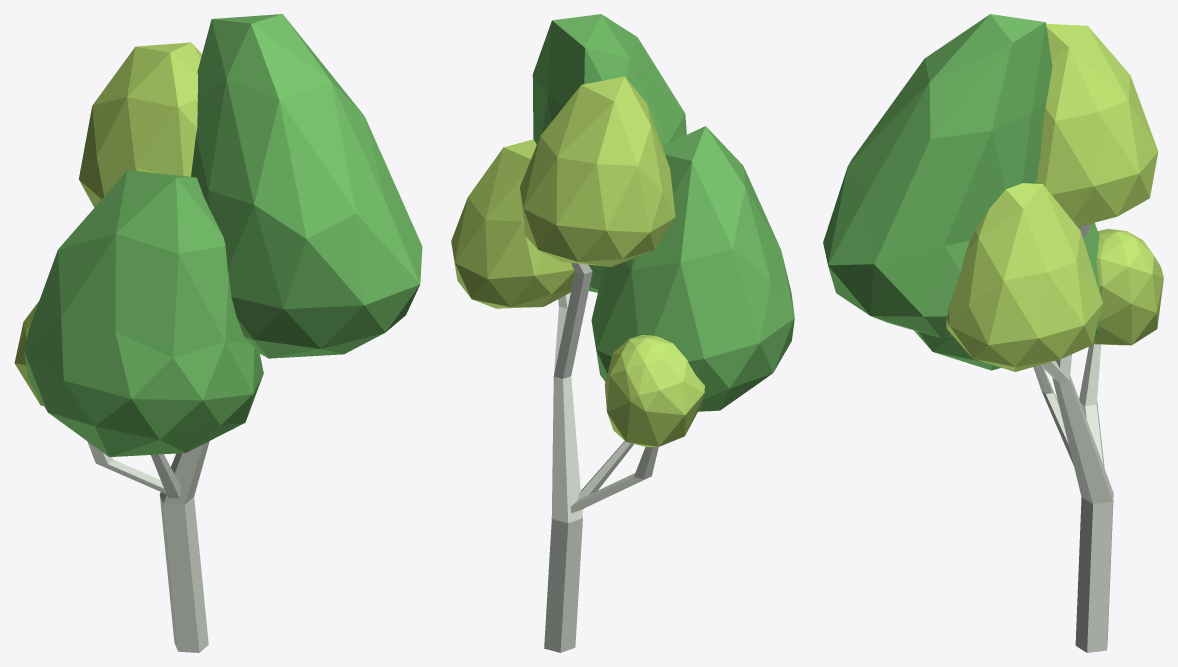
File: treeA.fbx
3 views of the same model, side by side, from view 1: azimuth 30°, elevation 25°; view 2: azimuth 150°, elevation 25°; view 3: azimuth 270°, elevation 25° (orthographic). The views are drawn at different scales.
Parts seen in each view (by area): view 1: Leaf Big B.005; view 2: Leaf Big B.005; view 3: Leaf Big B.005.
Boxes of the visible parts, <box> form: Leaf Big B.005: <box>14,14,422,652</box>; Leaf Big B.005: <box>451,14,794,652</box>; Leaf Big B.005: <box>823,14,1163,652</box>.
Size of the model in its own units: 68.09 by 125 by 60.82.
